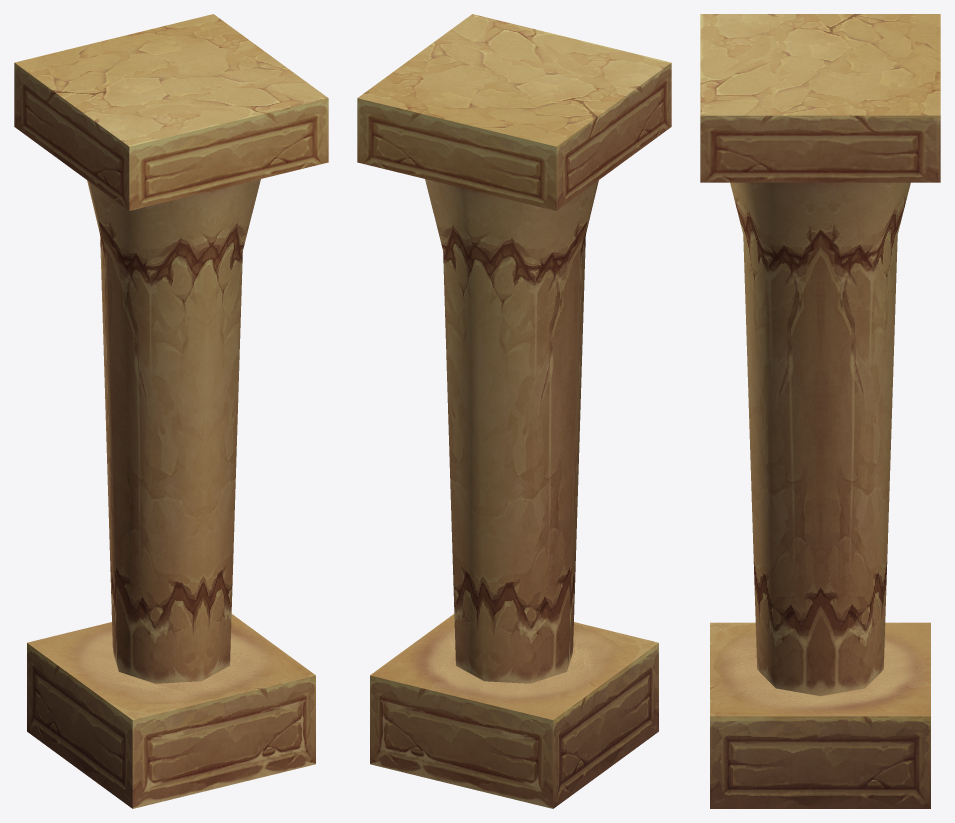
File: sukelateshamo_pingtai01_yuanzhu01.FBX
3 renders of one model, left to right at view 1: azimuth 30°, elevation 25°; view 2: azimuth 150°, elevation 25°; view 3: azimuth 270°, elevation 25°, orthographic. The views are drawn at different scales.
Visible parts, largest first — view 1: Object017; view 2: Object017; view 3: Object017.
Part boxes in pixels (left/top/right/bottom): Object017: left=14, top=14, right=328, bottom=808; Object017: left=357, top=14, right=671, bottom=808; Object017: left=700, top=14, right=940, bottom=808.
Bounding box in the file's own units: 128 × 409 × 128.
Materials: 1 (1 with a texture image).
